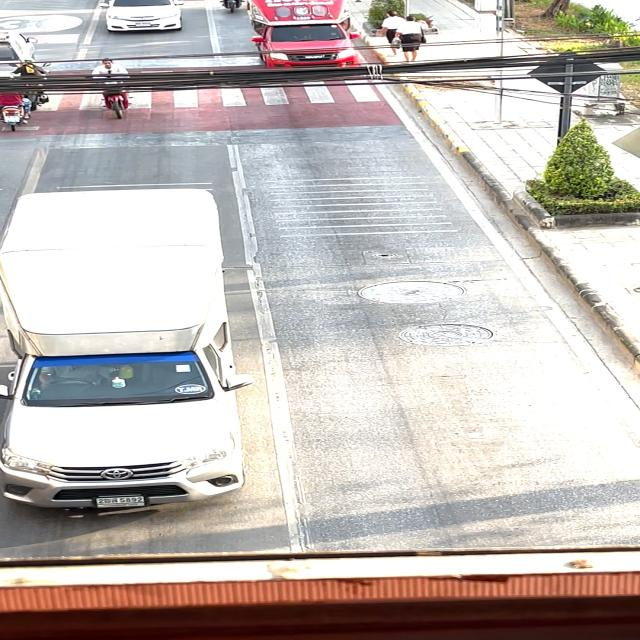car: (0, 185, 265, 522), (234, 0, 371, 88)
